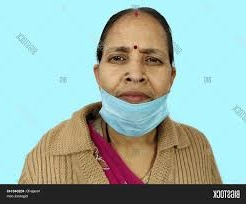mask_weared_incorrect: (92, 18, 172, 133)
